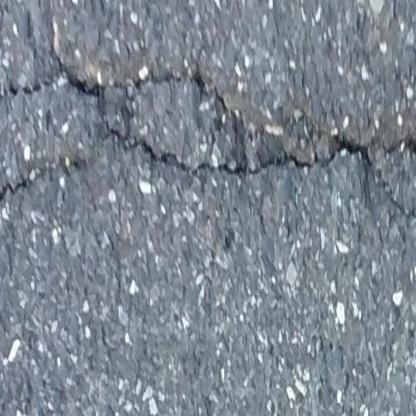Cracks: (0, 55, 416, 215)
